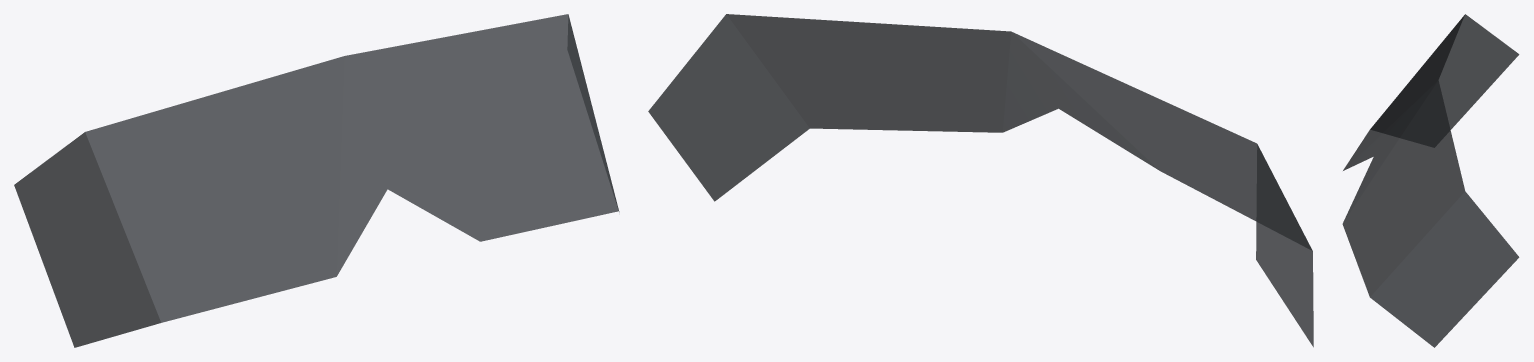
Rendered from SM_Chr_Attach_Helmet_01_Goggles_02_Glass.fbx.
3 views of the same model, side by side, from view 1: azimuth 30°, elevation 25°; view 2: azimuth 150°, elevation 25°; view 3: azimuth 270°, elevation 25° (orthographic). The views are drawn at different scales.
Parts seen in each view (by area): view 1: SM_Chr_Attach_Helmet_01_Goggles_02_Glass; view 2: SM_Chr_Attach_Helmet_01_Goggles_02_Glass; view 3: SM_Chr_Attach_Helmet_01_Goggles_02_Glass.
Boxes of the visible parts, x1,y1,x2,y2 form: SM_Chr_Attach_Helmet_01_Goggles_02_Glass: (14, 14, 619, 347); SM_Chr_Attach_Helmet_01_Goggles_02_Glass: (648, 14, 1313, 347); SM_Chr_Attach_Helmet_01_Goggles_02_Glass: (1342, 14, 1519, 347).
Size of the model in its own units: 23.2 by 8.95 by 8.55.
